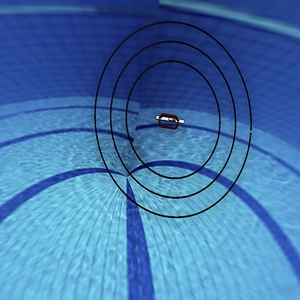circle: (87, 13, 260, 222)
submarine: (152, 104, 191, 140)
